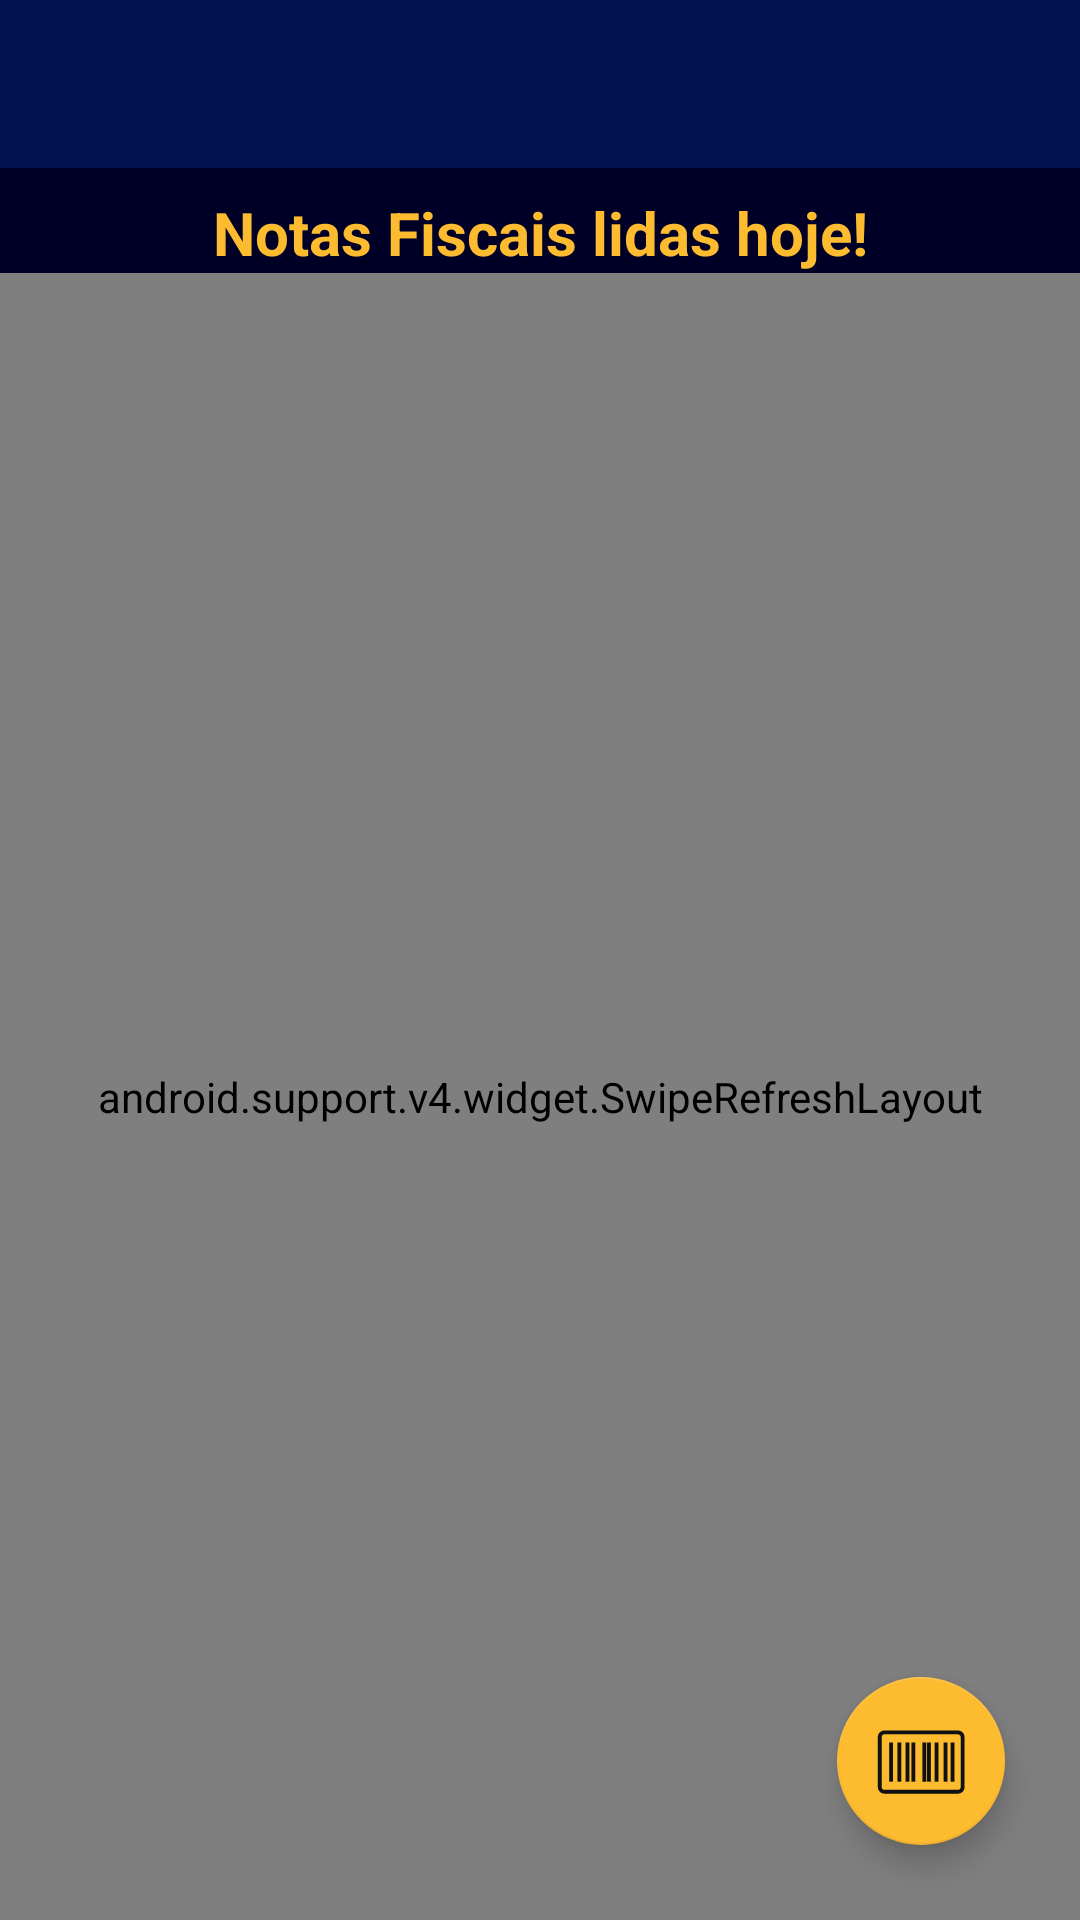

Icons on this 1080 x 1920 Android screen, each with its box as (x1=x1, y1=y1, x2=x2, y2=y2):
barcode: (x1=837, y1=1677, x2=1005, y2=1845)
